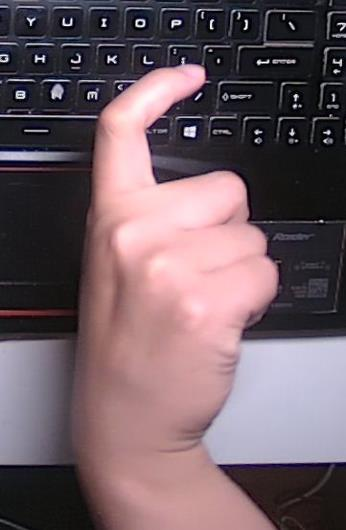anticlockwise: (69, 54, 292, 444)
